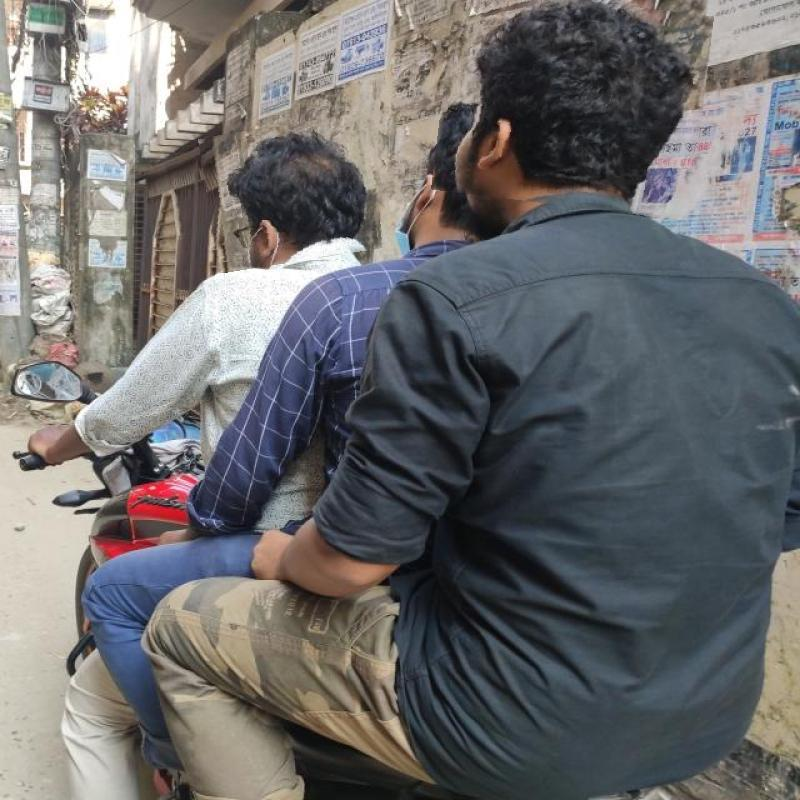nohelmet: (437, 0, 708, 213), (203, 118, 387, 268)
